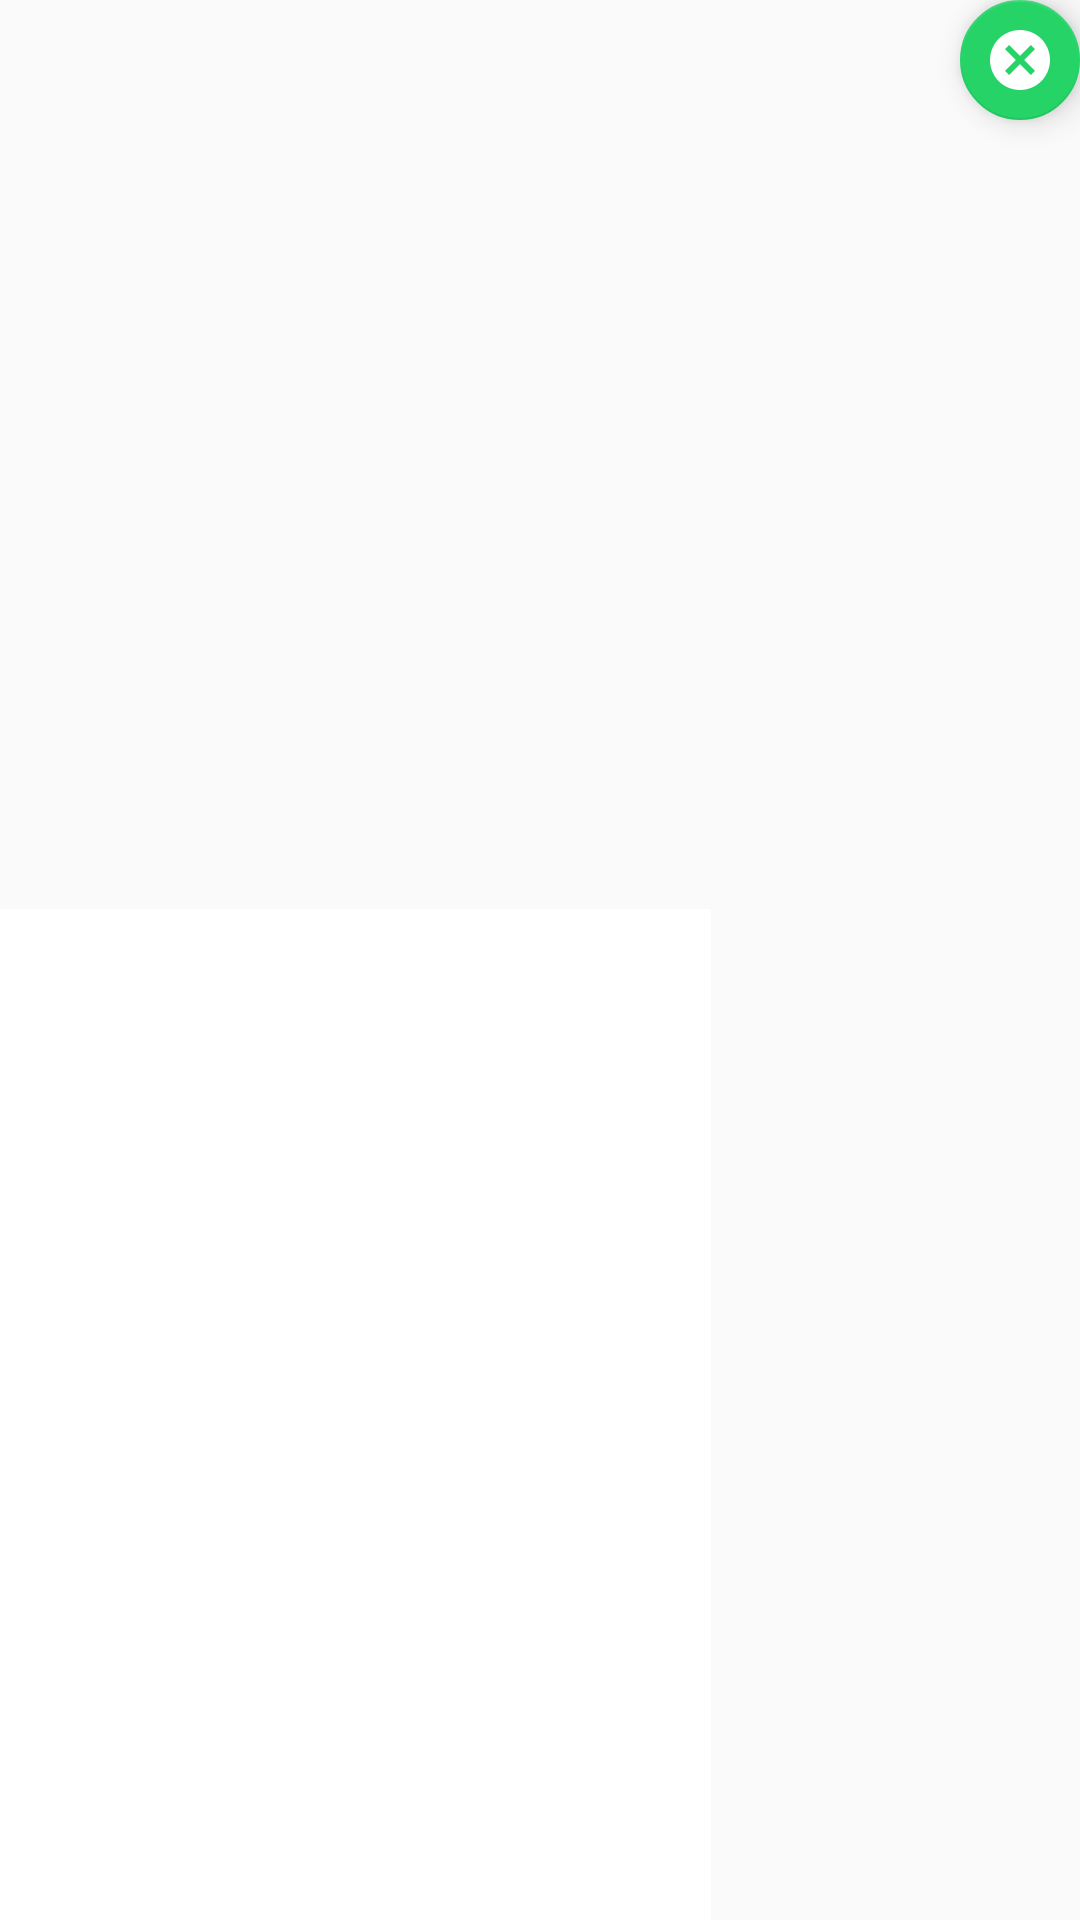

Where icons sit on this 1080px×1920px app screen, as bbox=(x1, y1, x2, y2):
cancel: bbox=(960, 0, 1080, 120)
